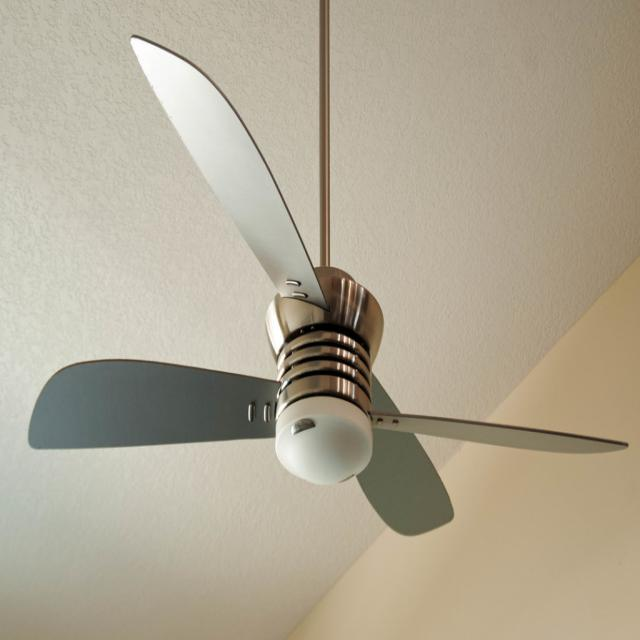Bulb: (27, 0, 628, 536)
